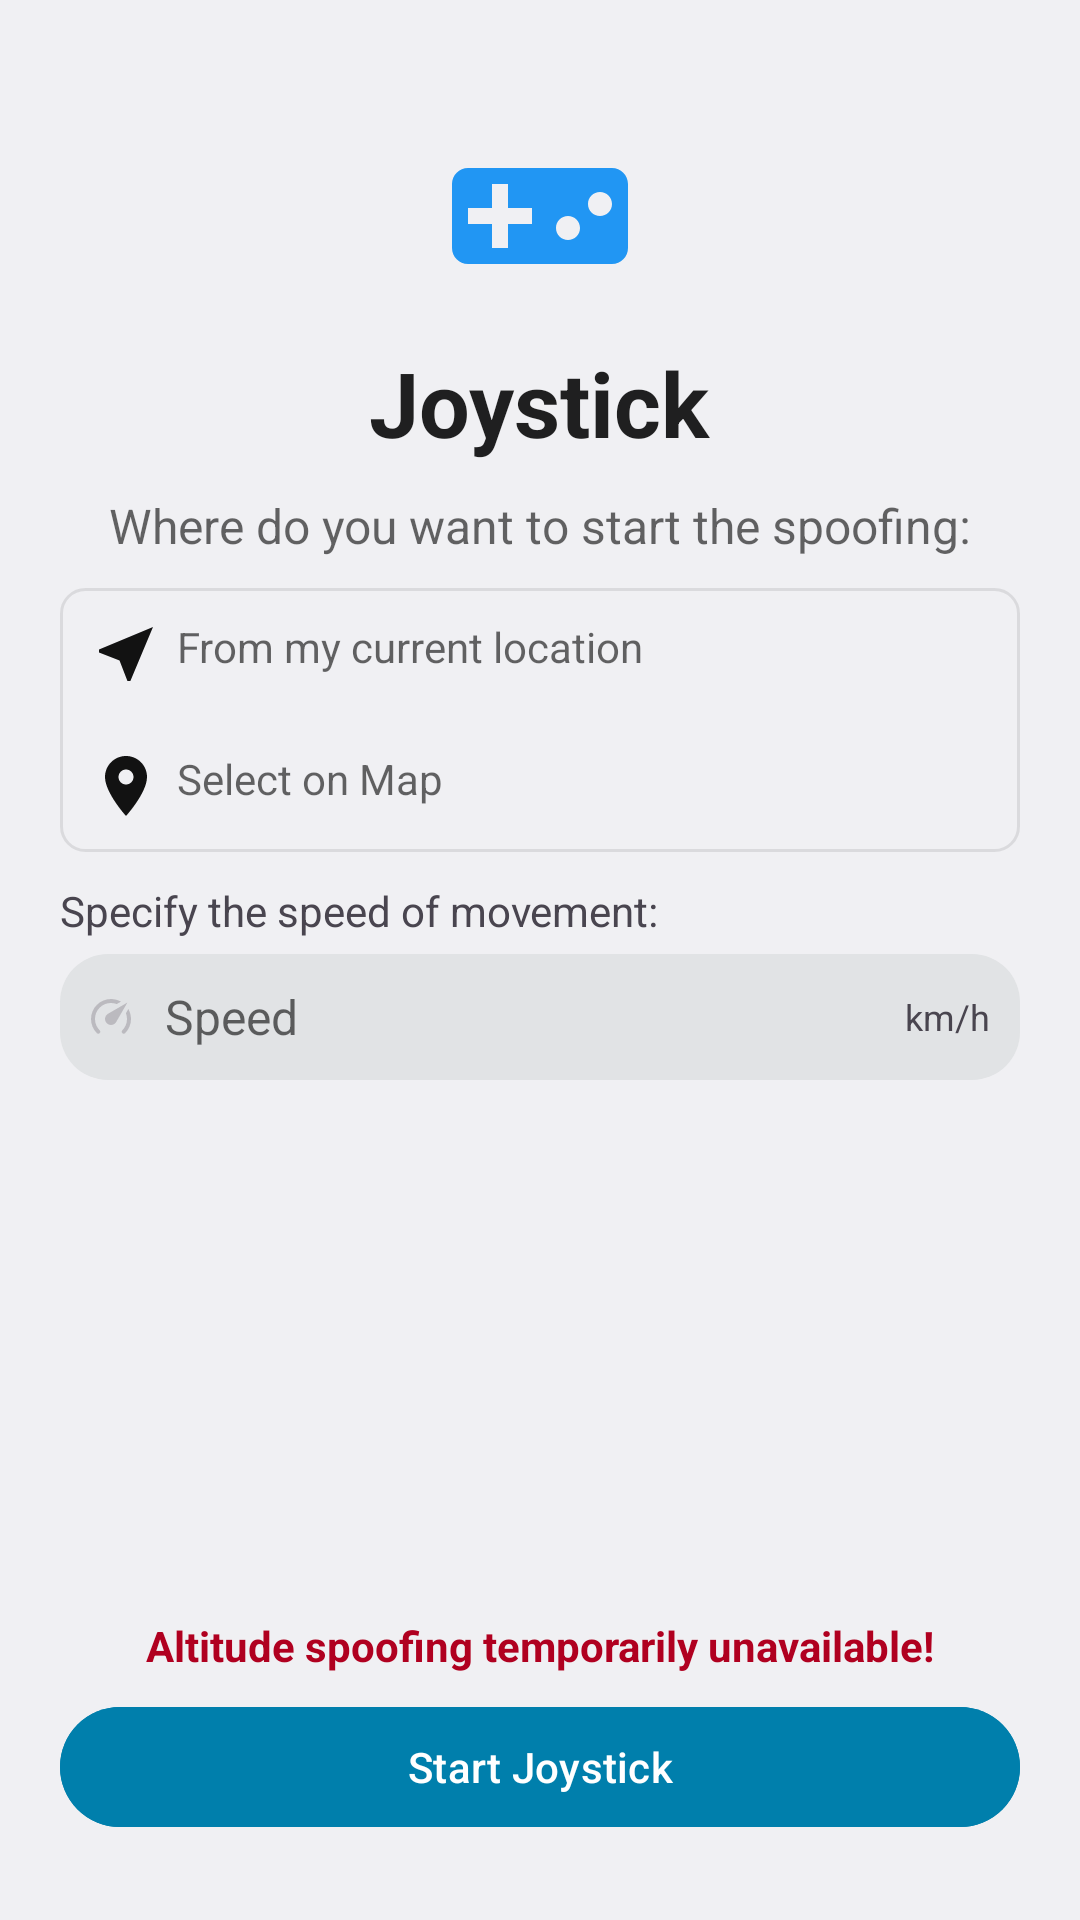

Icon click points for this 1080*1920 phone screenshot, format [x,y]:
videogame: [540,216]
